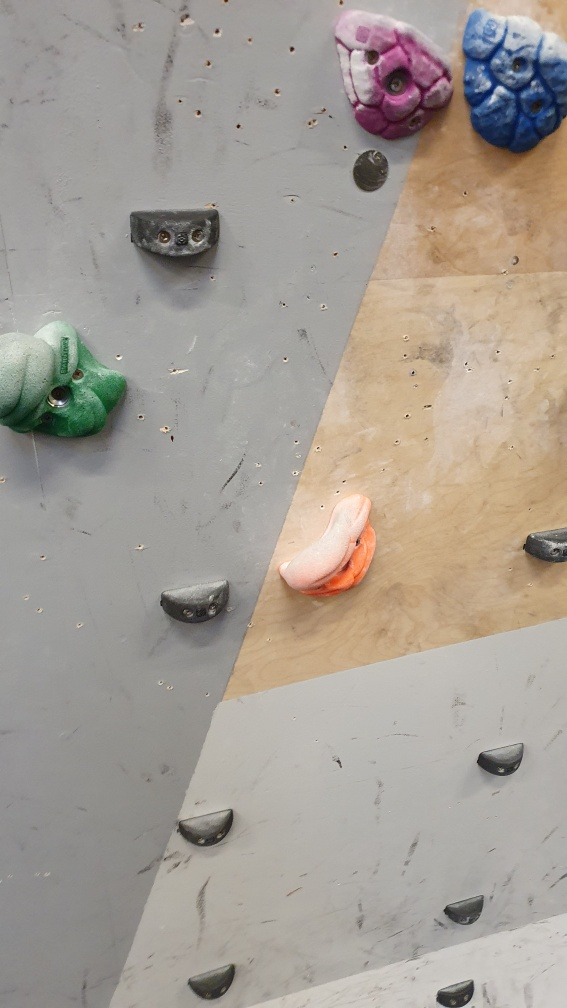Hand Start: (348, 145, 396, 196)
Jug: (331, 2, 459, 143), (1, 310, 133, 443), (456, 5, 567, 156), (273, 490, 381, 602)
Pinch: (127, 206, 222, 263), (160, 578, 234, 627), (173, 806, 237, 849), (475, 739, 528, 781), (185, 961, 239, 999), (523, 526, 567, 566), (445, 894, 488, 925), (436, 975, 475, 1008)
